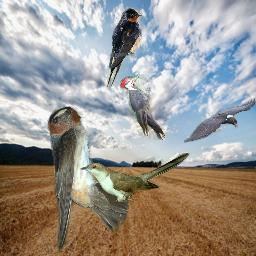Crow: (184, 98, 256, 143)
Cuckoo: (80, 152, 189, 202)
Swallow: (47, 106, 129, 254), (105, 7, 142, 87)
Woodpecker: (120, 74, 165, 140)
